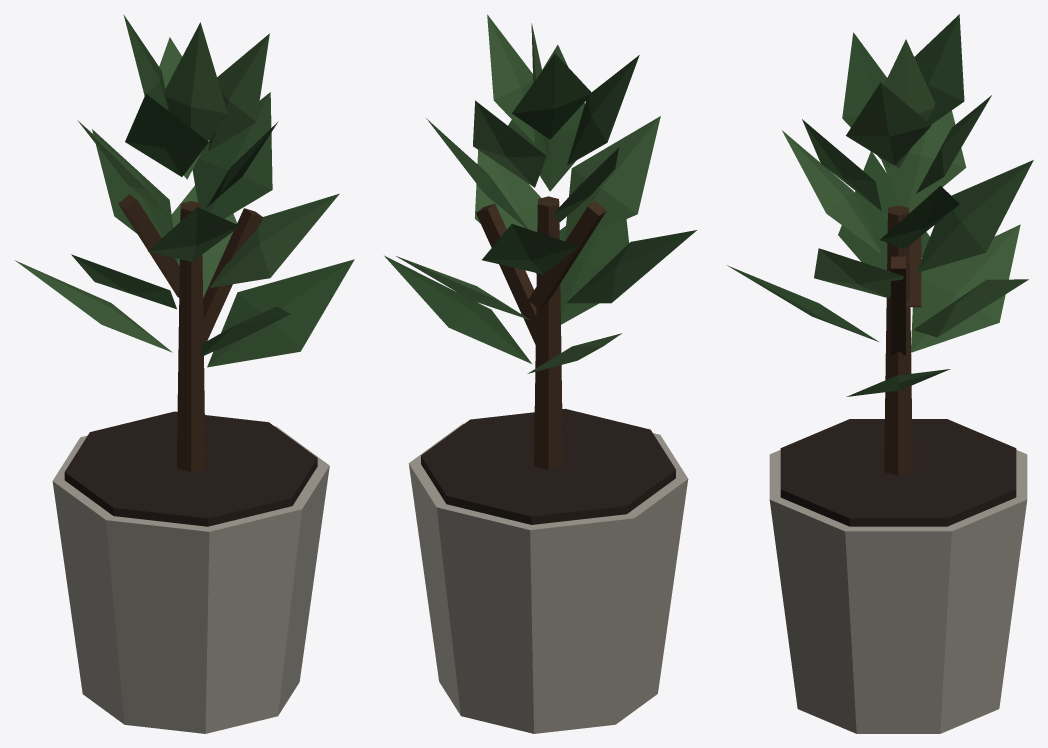
The picture shows the model from 3 angles, left to right: view 1: azimuth 30°, elevation 25°; view 2: azimuth 150°, elevation 25°; view 3: azimuth 270°, elevation 25°; orthographic projection.
Parts seen in each view (by area): view 1: furniture_9_plant_rare_tall; view 2: furniture_9_plant_rare_tall; view 3: furniture_9_plant_rare_tall.
Boxes of the visible parts, bbox=[...] form: furniture_9_plant_rare_tall: bbox=[15, 14, 354, 733]; furniture_9_plant_rare_tall: bbox=[384, 14, 696, 733]; furniture_9_plant_rare_tall: bbox=[727, 14, 1033, 733].
Bounding box in the file's own units: 1.13 × 2.4 × 1.02.
